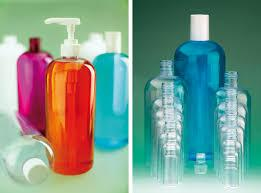Container for household chemicals: (3, 5, 136, 185), (149, 12, 260, 184)
